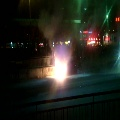fire: (51, 54, 66, 81)
